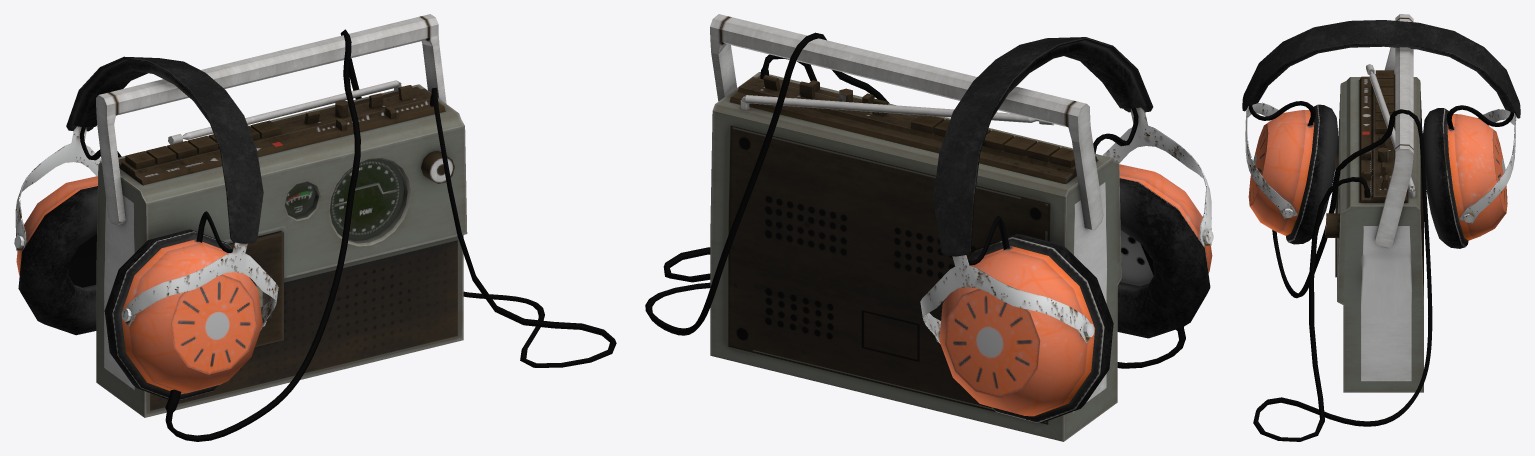
File: hero-model-1.glb
3 renders of one model, left to right at view 1: azimuth 30°, elevation 25°; view 2: azimuth 150°, elevation 25°; view 3: azimuth 270°, elevation 25°, orthographic. The views are drawn at different scales.
Visible parts, largest first — view 1: polySurface175_lambert1_0; view 2: polySurface175_lambert1_0; view 3: polySurface175_lambert1_0.
Part boxes in pixels (bbox=[...]): polySurface175_lambert1_0: bbox=[14, 14, 616, 441]; polySurface175_lambert1_0: bbox=[645, 14, 1213, 441]; polySurface175_lambert1_0: bbox=[1242, 14, 1520, 441].
Bounding box in the file's own units: 2.77 × 1.72 × 1.63.
1 material, 1 textured.
